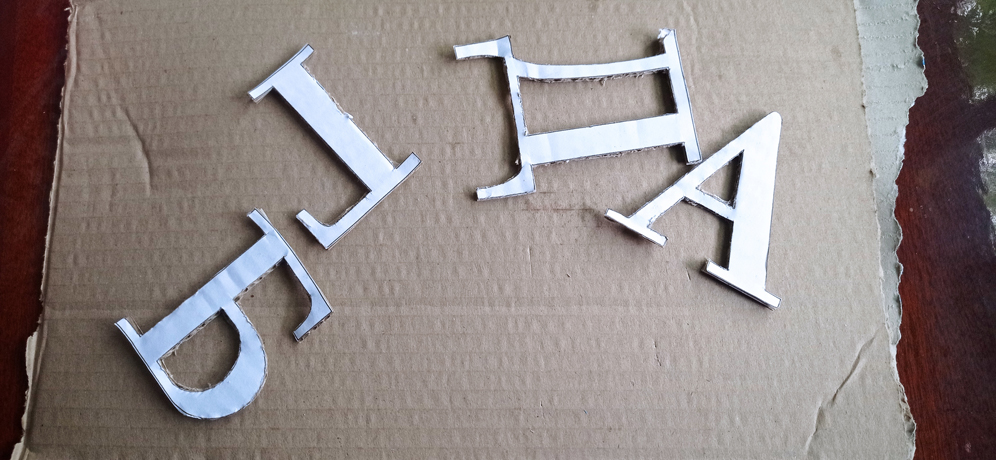a: (604, 112, 784, 308)
b: (113, 208, 334, 422)
d: (453, 28, 703, 202)
g: (247, 41, 422, 252)
